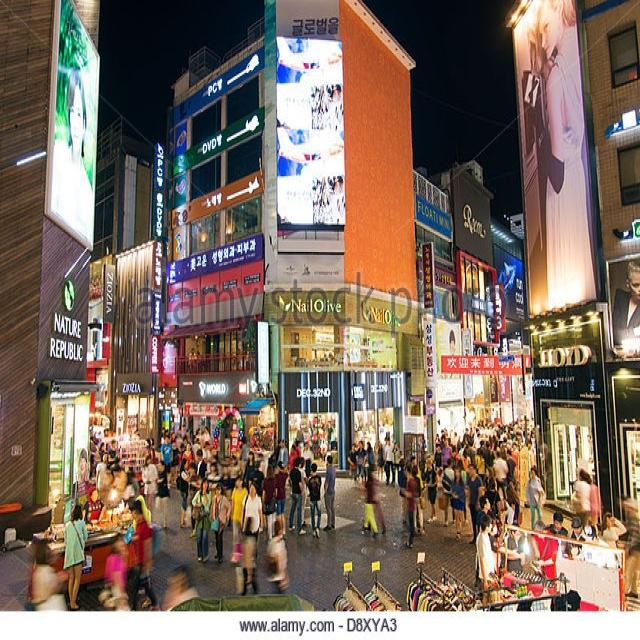body: (534, 0, 598, 311), (47, 57, 96, 249), (433, 414, 536, 461), (573, 521, 611, 639), (125, 497, 160, 614), (62, 502, 88, 612), (611, 255, 640, 352), (99, 531, 133, 610), (467, 459, 508, 517), (233, 516, 260, 598), (161, 562, 203, 612), (25, 560, 66, 611), (189, 475, 212, 563), (208, 481, 232, 564), (239, 481, 263, 564), (475, 513, 496, 604), (622, 494, 639, 597), (474, 492, 492, 588), (230, 474, 249, 564), (398, 462, 417, 550), (580, 471, 602, 543), (287, 455, 307, 534), (465, 461, 484, 544), (525, 465, 548, 533), (88, 425, 118, 477), (269, 520, 290, 591), (361, 481, 388, 536), (265, 434, 313, 464), (175, 455, 194, 530), (449, 465, 468, 540), (260, 463, 278, 541), (306, 461, 322, 540), (157, 416, 192, 452), (273, 460, 289, 538), (422, 455, 440, 523), (440, 457, 457, 528), (140, 454, 160, 512), (154, 458, 170, 530), (321, 453, 335, 531), (81, 486, 108, 526), (491, 449, 509, 507), (492, 475, 507, 544), (185, 461, 198, 540), (191, 434, 218, 472), (601, 511, 628, 547), (298, 455, 311, 527), (569, 467, 592, 507), (396, 455, 409, 524), (131, 493, 152, 534), (540, 510, 569, 538), (569, 514, 588, 556), (241, 448, 256, 501), (502, 447, 517, 498), (159, 432, 172, 490), (317, 417, 338, 452), (94, 451, 111, 493), (483, 465, 500, 507), (444, 328, 459, 374), (247, 460, 265, 498), (206, 461, 221, 504), (347, 442, 360, 490), (408, 454, 425, 490), (363, 439, 376, 486), (226, 454, 242, 490), (199, 440, 214, 478), (355, 439, 367, 486), (384, 436, 395, 486), (73, 446, 87, 482), (182, 441, 198, 472), (186, 344, 203, 371), (373, 436, 383, 479), (507, 476, 521, 506), (441, 437, 453, 471), (276, 438, 289, 467), (390, 441, 398, 488), (383, 437, 391, 484), (489, 516, 499, 552), (195, 448, 206, 480), (476, 484, 489, 511), (540, 439, 550, 474), (144, 435, 156, 464), (194, 425, 204, 458), (301, 457, 314, 481), (449, 444, 459, 471), (415, 432, 427, 454), (586, 432, 594, 464), (318, 351, 335, 365), (202, 425, 211, 450), (574, 432, 582, 460), (532, 518, 546, 533), (251, 438, 265, 451), (508, 520, 520, 535), (133, 412, 140, 437)
